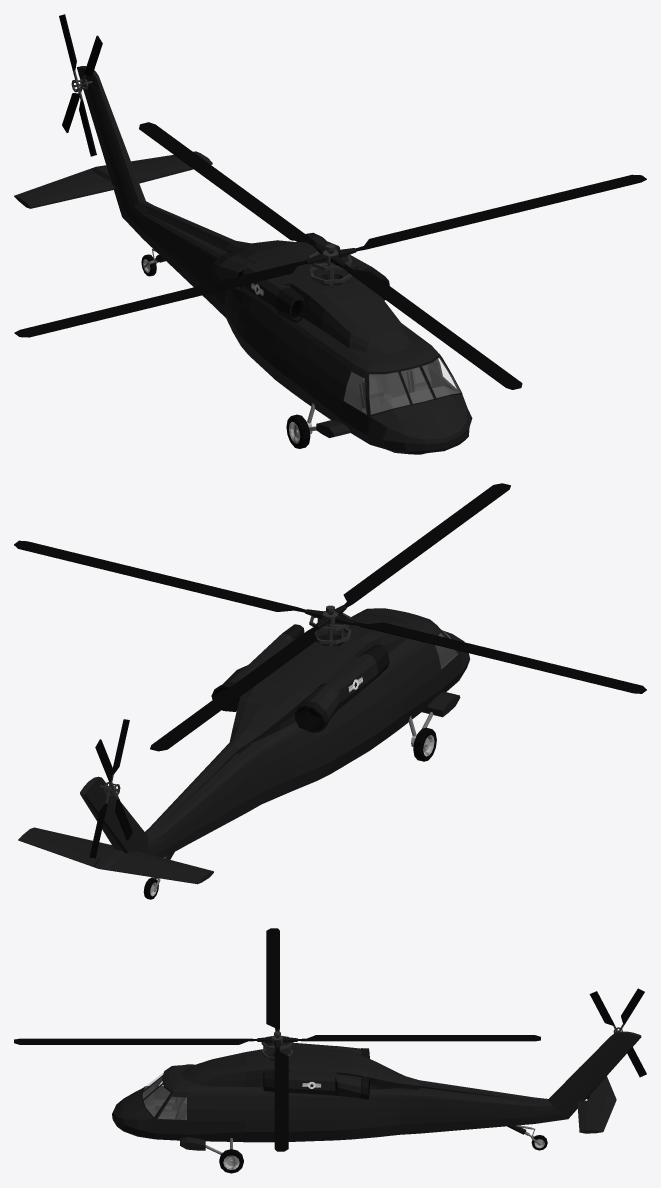
3 views of the same model, one above another, from view 1: azimuth 30°, elevation 25°; view 2: azimuth 150°, elevation 25°; view 3: azimuth 270°, elevation 25° (orthographic). The views are drawn at different scales.
Parts seen in each view (by area): view 1: Circle, Circle.008, Circle.004, Circle.009, Circle.003, Landing gear_RL.001; view 2: Circle, Circle.008, Circle.004, Circle.009, Landing gear_RL.001, Circle.003; view 3: Circle, Circle.008, Circle.004, Circle.005, Circle.009, Landing gear_RL, Landing gear_F.
Boxes of the visible parts, bbox=[...] form: Circle: bbox=[77, 66, 472, 454]; Circle.008: bbox=[14, 122, 646, 389]; Circle.004: bbox=[14, 151, 212, 208]; Circle.009: bbox=[59, 14, 102, 156]; Circle.003: bbox=[342, 370, 367, 435]; Landing gear_RL.001: bbox=[286, 403, 316, 448]; Circle: bbox=[80, 608, 469, 857]; Circle.008: bbox=[14, 483, 646, 751]; Circle.004: bbox=[18, 827, 213, 884]; Circle.009: bbox=[89, 719, 132, 858]; Landing gear_RL.001: bbox=[408, 712, 436, 761]; Circle.003: bbox=[434, 631, 461, 689]; Circle: bbox=[112, 1031, 641, 1150]; Circle.008: bbox=[14, 928, 540, 1151]; Circle.004: bbox=[577, 1067, 616, 1133]; Circle.005: bbox=[155, 1095, 187, 1134]; Circle.009: bbox=[589, 988, 646, 1077]; Landing gear_RL: bbox=[205, 1138, 243, 1173]; Landing gear_F: bbox=[507, 1125, 547, 1150].
Size of the model in its own units: 1471 by 479 by 1768.
